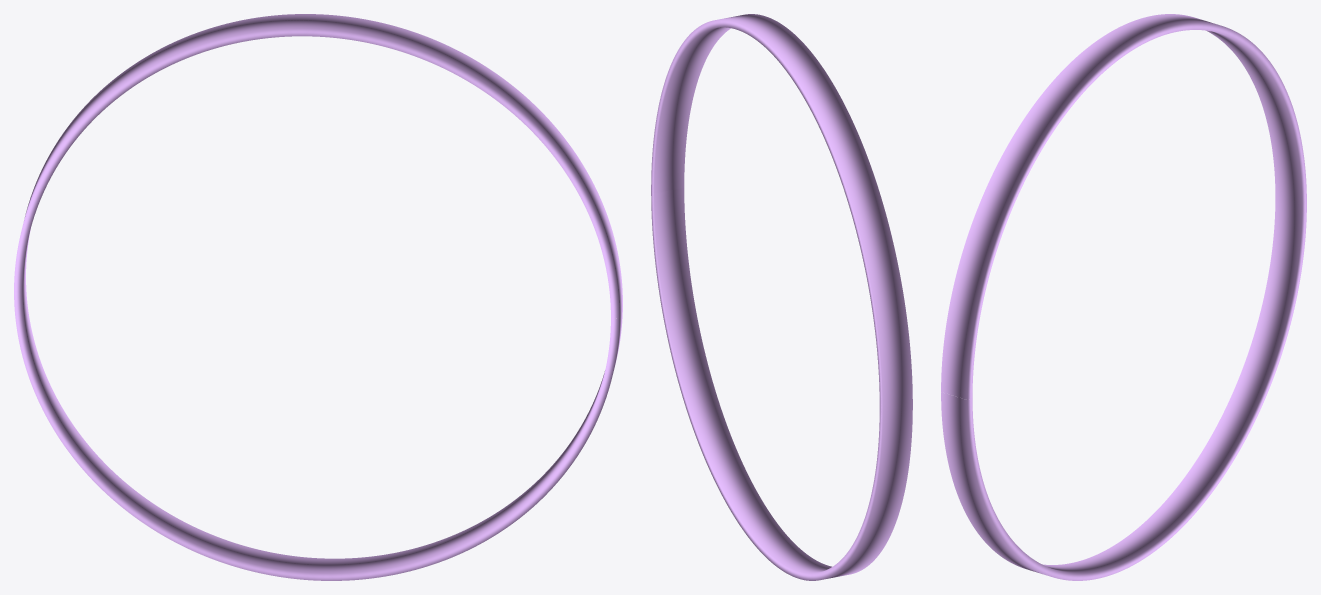
The model's file is coil_coil_14_tube.gltf.
3 views of the same model, side by side, from view 1: azimuth 30°, elevation 25°; view 2: azimuth 150°, elevation 25°; view 3: azimuth 270°, elevation 25° (orthographic). The views are drawn at different scales.
Visible parts, largest first — view 1: Renderer Node; view 2: Renderer Node; view 3: Renderer Node.
Part boxes in pixels (x1=…): Renderer Node: x1=14, y1=14, x2=622, y2=580; Renderer Node: x1=651, y1=14, x2=912, y2=580; Renderer Node: x1=941, y1=14, x2=1306, y2=580.
Bounding box in the file's own units: 0.5128 × 0.6084 × 0.3859.
